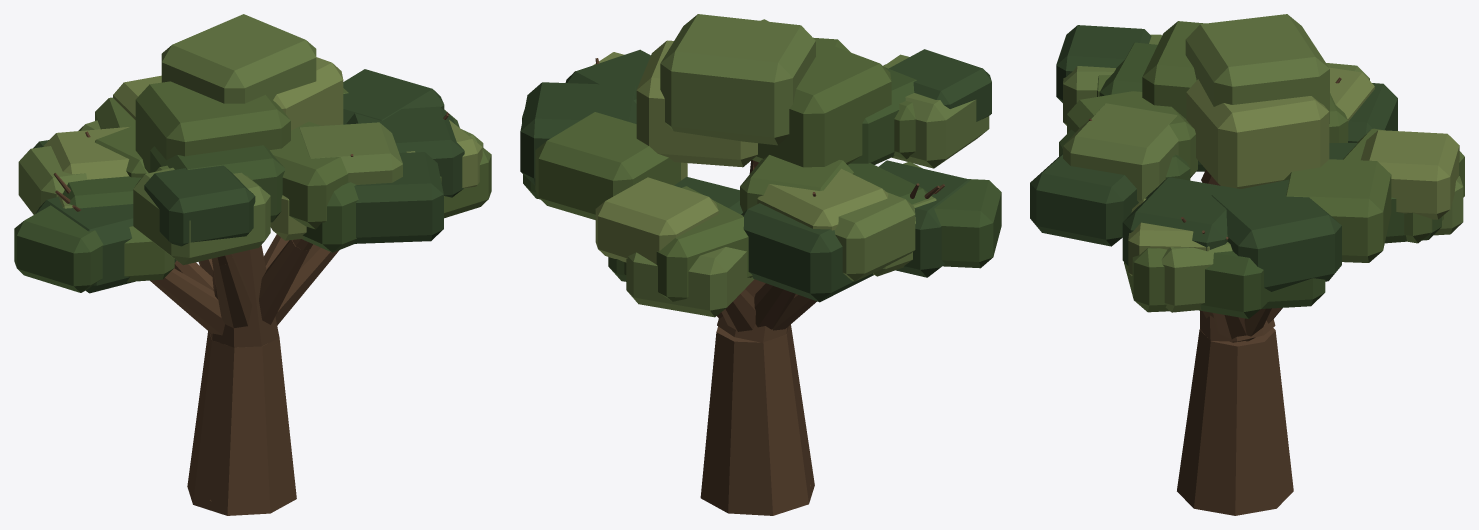
File: apple_mature_2.glb
3 views of the same model, side by side, from view 1: azimuth 30°, elevation 25°; view 2: azimuth 150°, elevation 25°; view 3: azimuth 270°, elevation 25° (orthographic). The views are drawn at different scales.
Parts seen in each view (by area): view 1: apple_mature_2; view 2: apple_mature_2; view 3: apple_mature_2.
Part boxes in pixels (x1,y1,x2,y2): apple_mature_2: [14, 14, 491, 515]; apple_mature_2: [520, 14, 1001, 515]; apple_mature_2: [1030, 14, 1464, 515].
Size of the model in its own units: 12.68 by 12 by 10.4.
